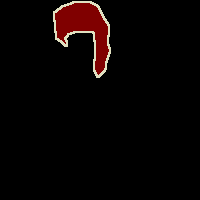hat: (54, 2, 110, 77)
